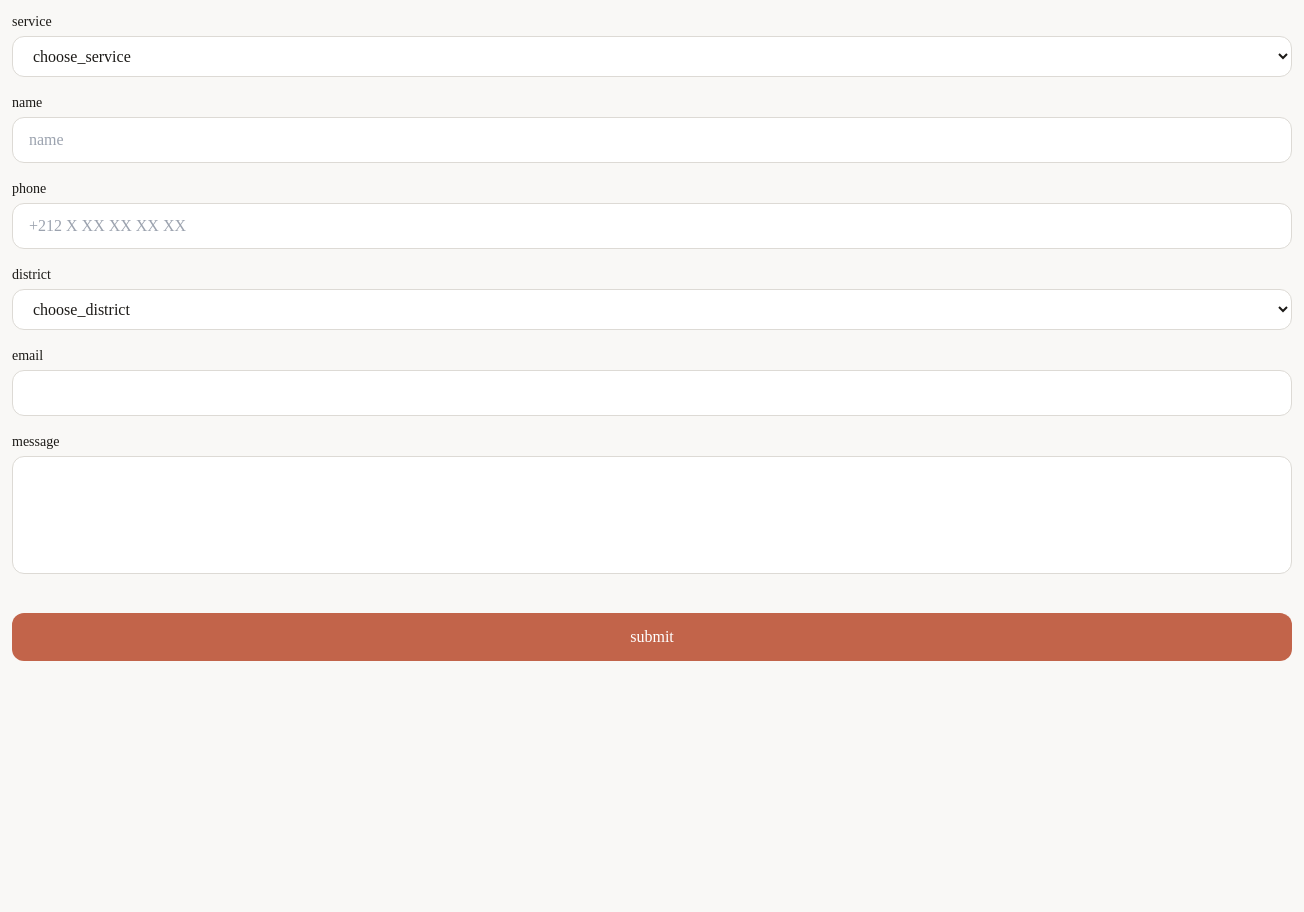
Test: ContactForm service selector › shows a mapped message when the service is no longer available
Select "Plomberie" in the dropdown labelled "service": coordinates (652, 56) x1=12 y1=36 x2=1292 y2=77
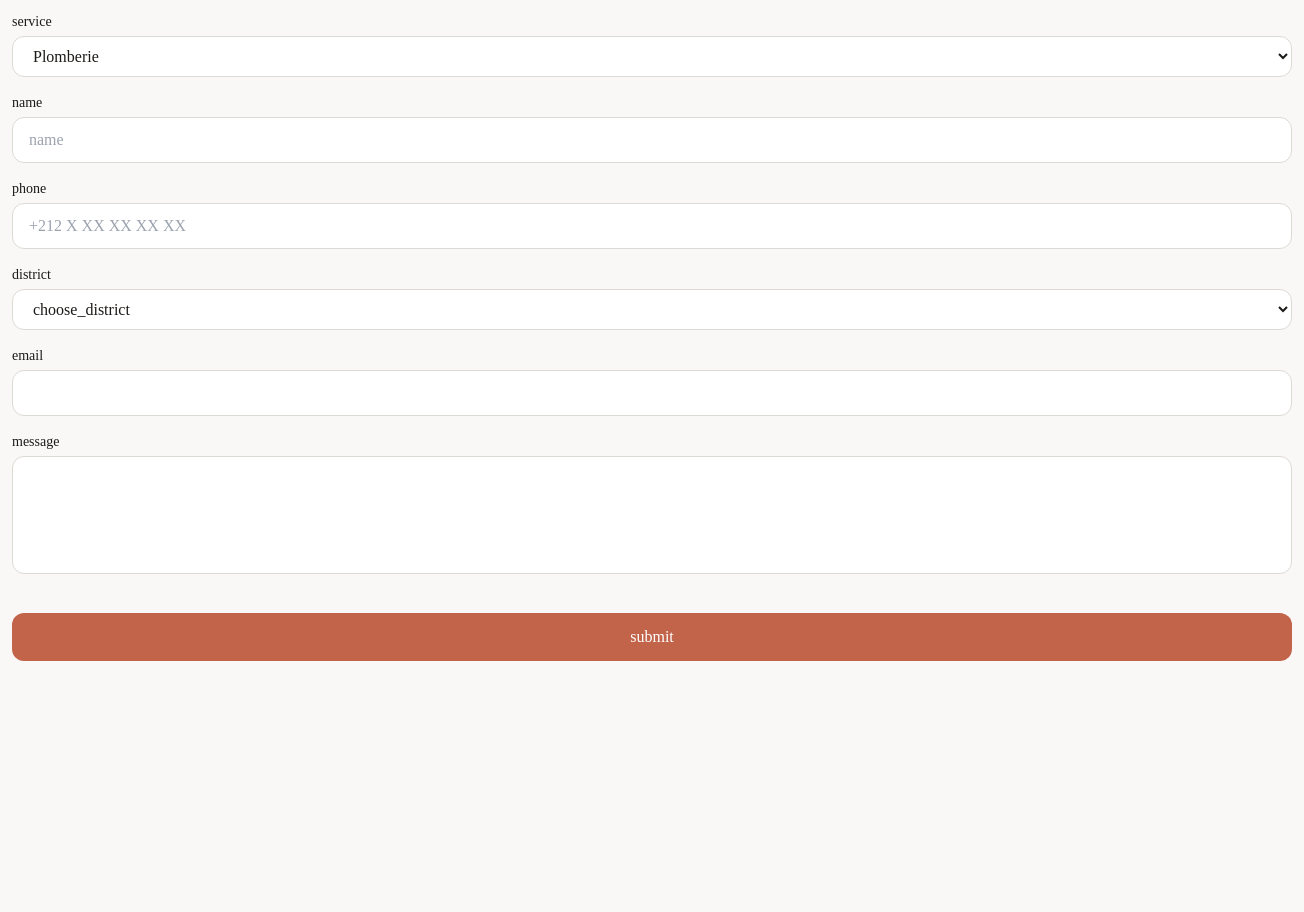
In the field labelled "name": coordinates (652, 140) x1=12 y1=117 x2=1292 y2=163, type "Karim Test"
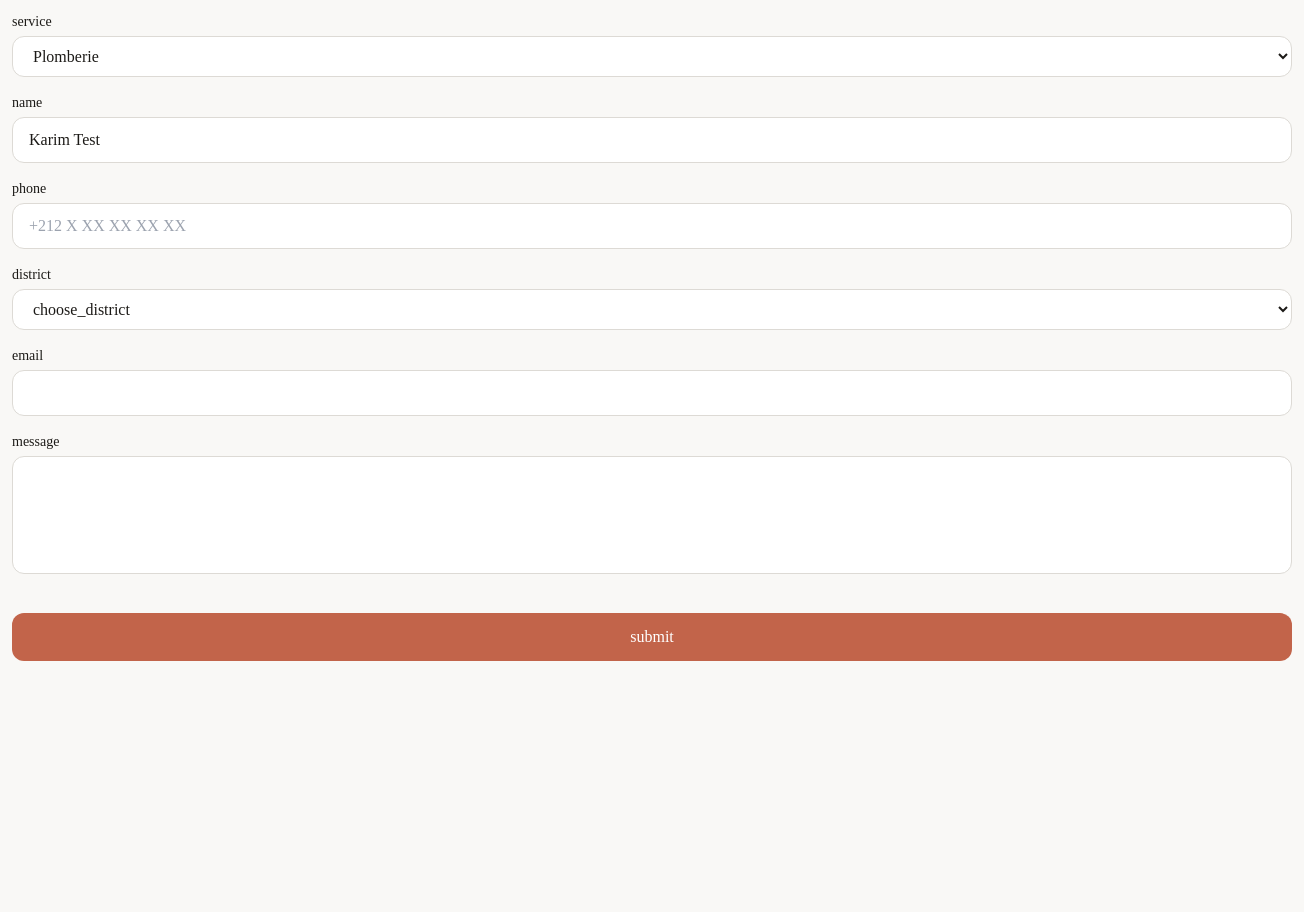
In the field labelled "phone": coordinates (652, 226) x1=12 y1=203 x2=1292 y2=249, type "+212612345678"
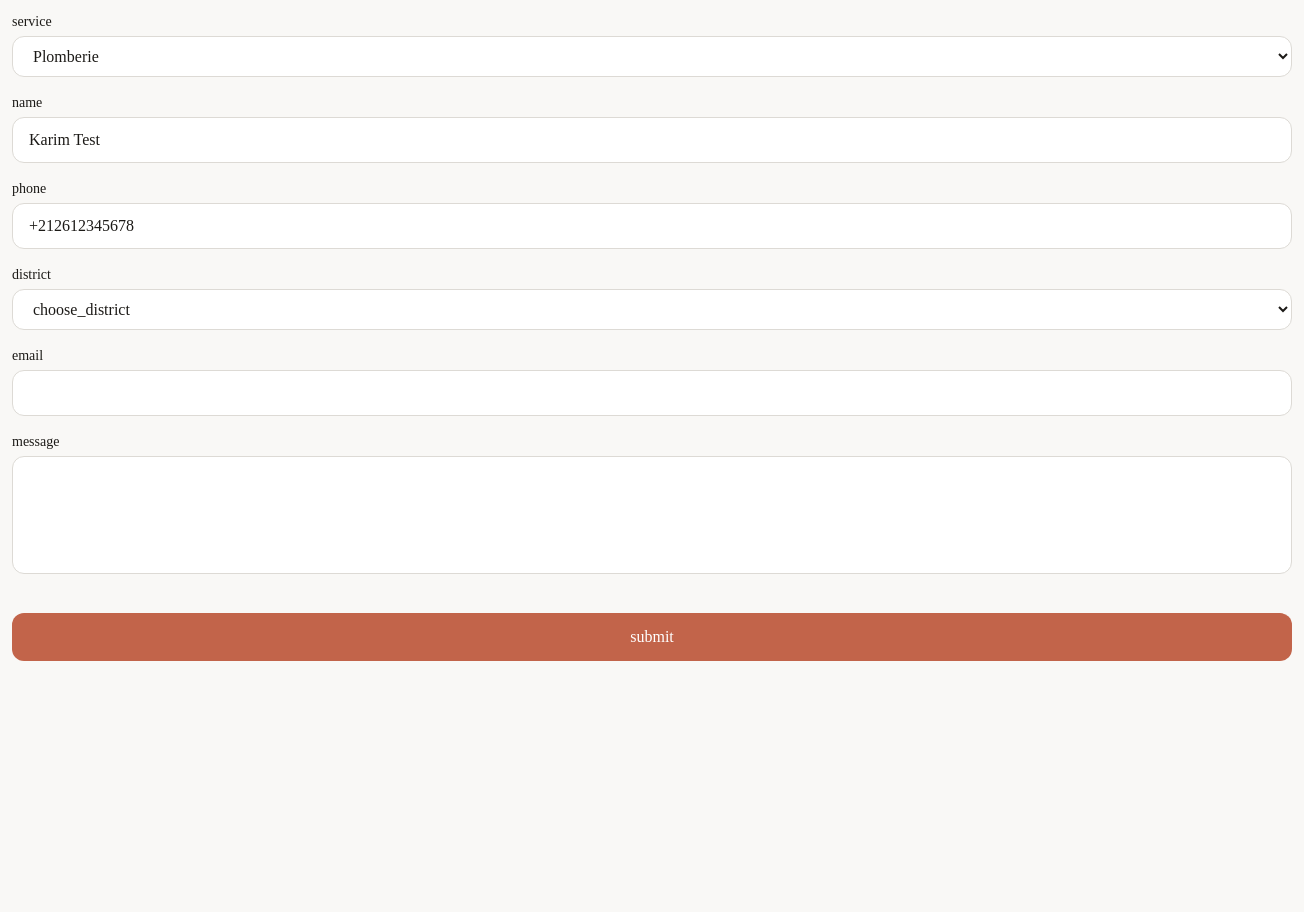
Select "Gueliz" in the dropdown labelled "district": coordinates (652, 310) x1=12 y1=289 x2=1292 y2=330
Click the button "submit": coordinates (652, 637) x1=12 y1=613 x2=1292 y2=661
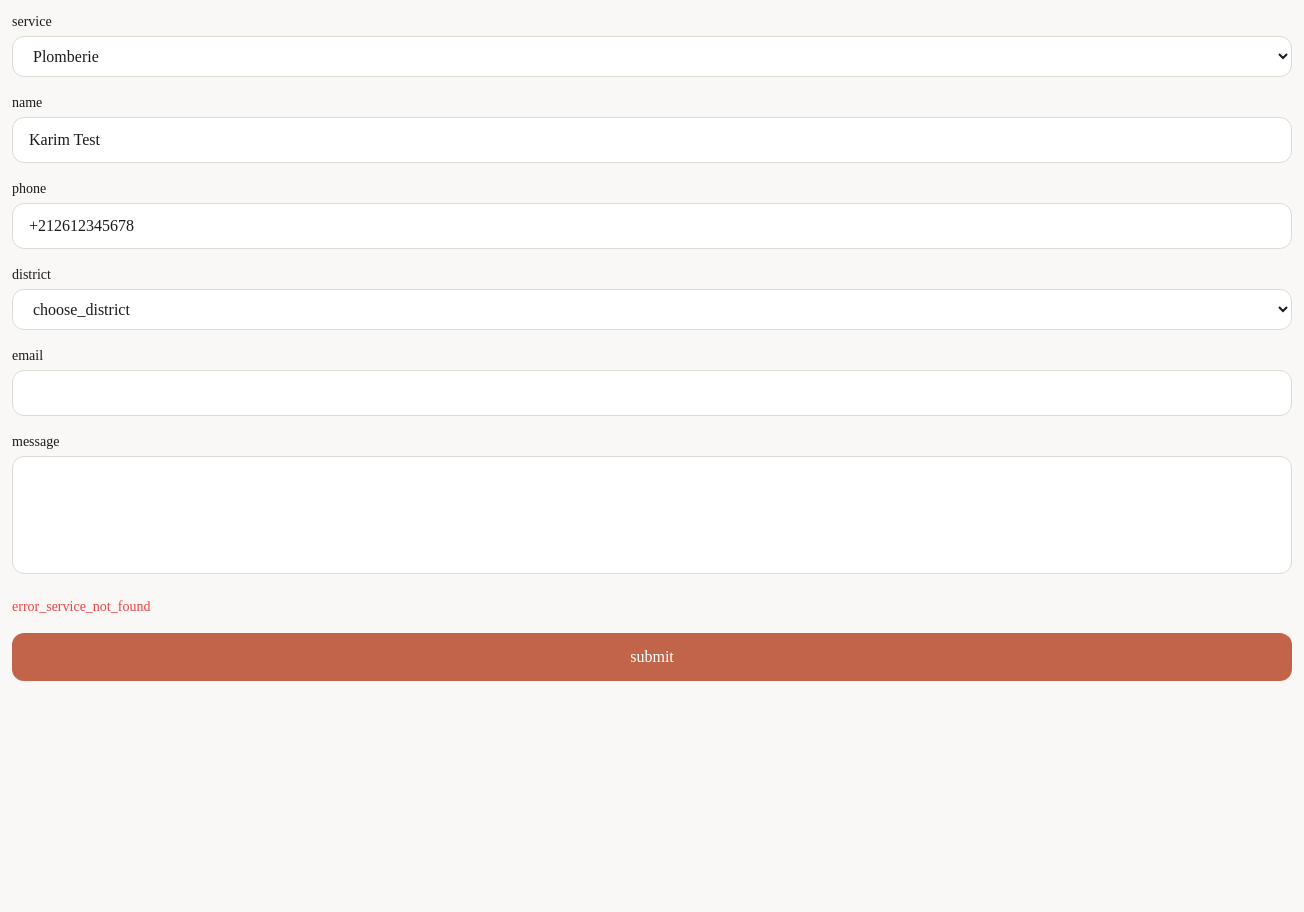
Now the text "error_service_not_found" is shown, box x1=12 y1=599 x2=150 y2=614
